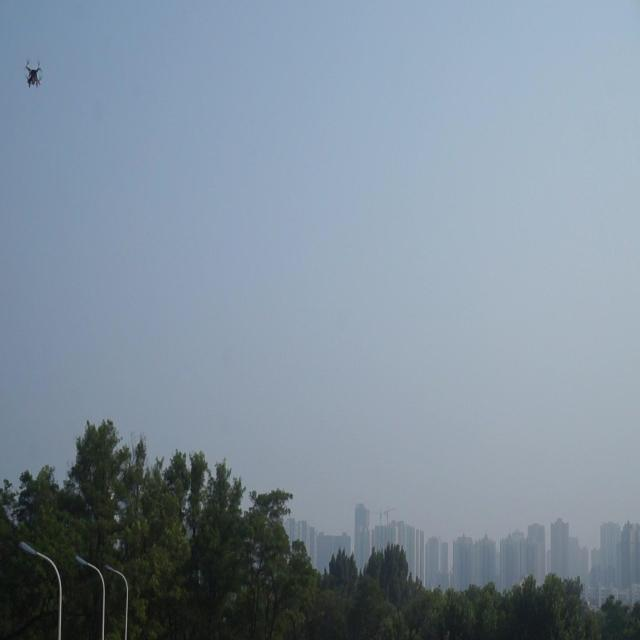drone: (24, 56, 43, 92)
